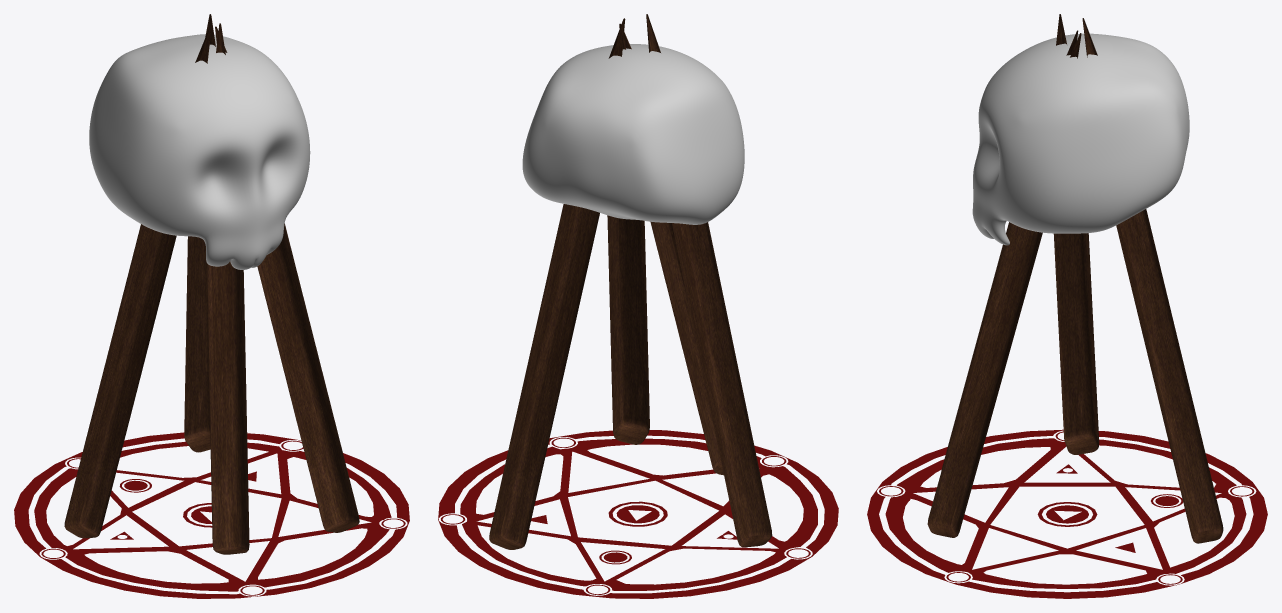
Rendered from Schrein_.fbx.
3 renders of one model, left to right at view 1: azimuth 30°, elevation 25°; view 2: azimuth 150°, elevation 25°; view 3: azimuth 270°, elevation 25°, orthographic.
Parts seen in each view (by area): view 1: Character.001; view 2: Character.001; view 3: Character.001.
Part boxes in pixels (left/top/right/bottom): Character.001: left=14, top=14, right=409, bottom=598; Character.001: left=438, top=14, right=838, bottom=598; Character.001: left=867, top=14, right=1267, bottom=598.
Size of the model in its own units: 740 by 1019 by 740.
